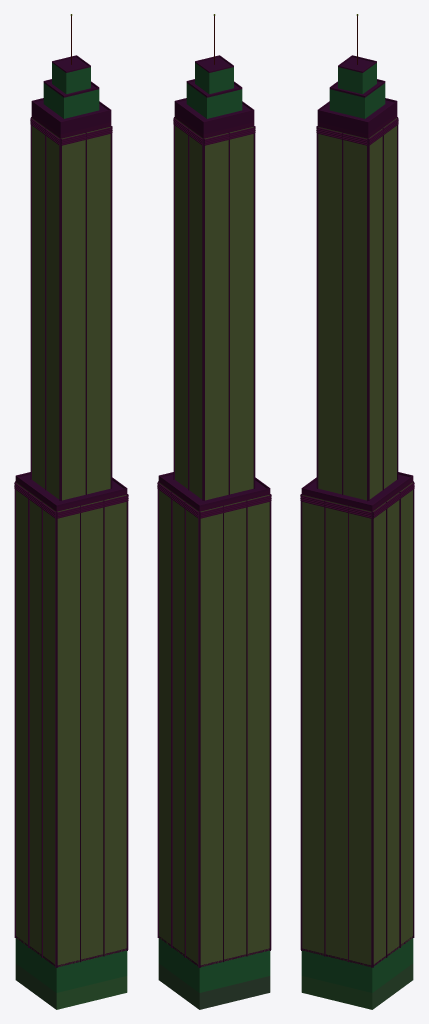
File: tower_k.glb
3 renders of one model, left to right at view 1: azimuth 30°, elevation 25°; view 2: azimuth 210°, elevation 25°; view 3: azimuth 330°, elevation 25°, orthographic.
Visible parts, largest first — view 1: tower_k; view 2: tower_k; view 3: tower_k.
Boxes of the visible parts, bbox=[...] form: tower_k: bbox=[14, 14, 128, 1009]; tower_k: bbox=[157, 14, 271, 1009]; tower_k: bbox=[300, 14, 414, 1009].
Size of the model in its own units: 21.83 by 276 by 21.83.
